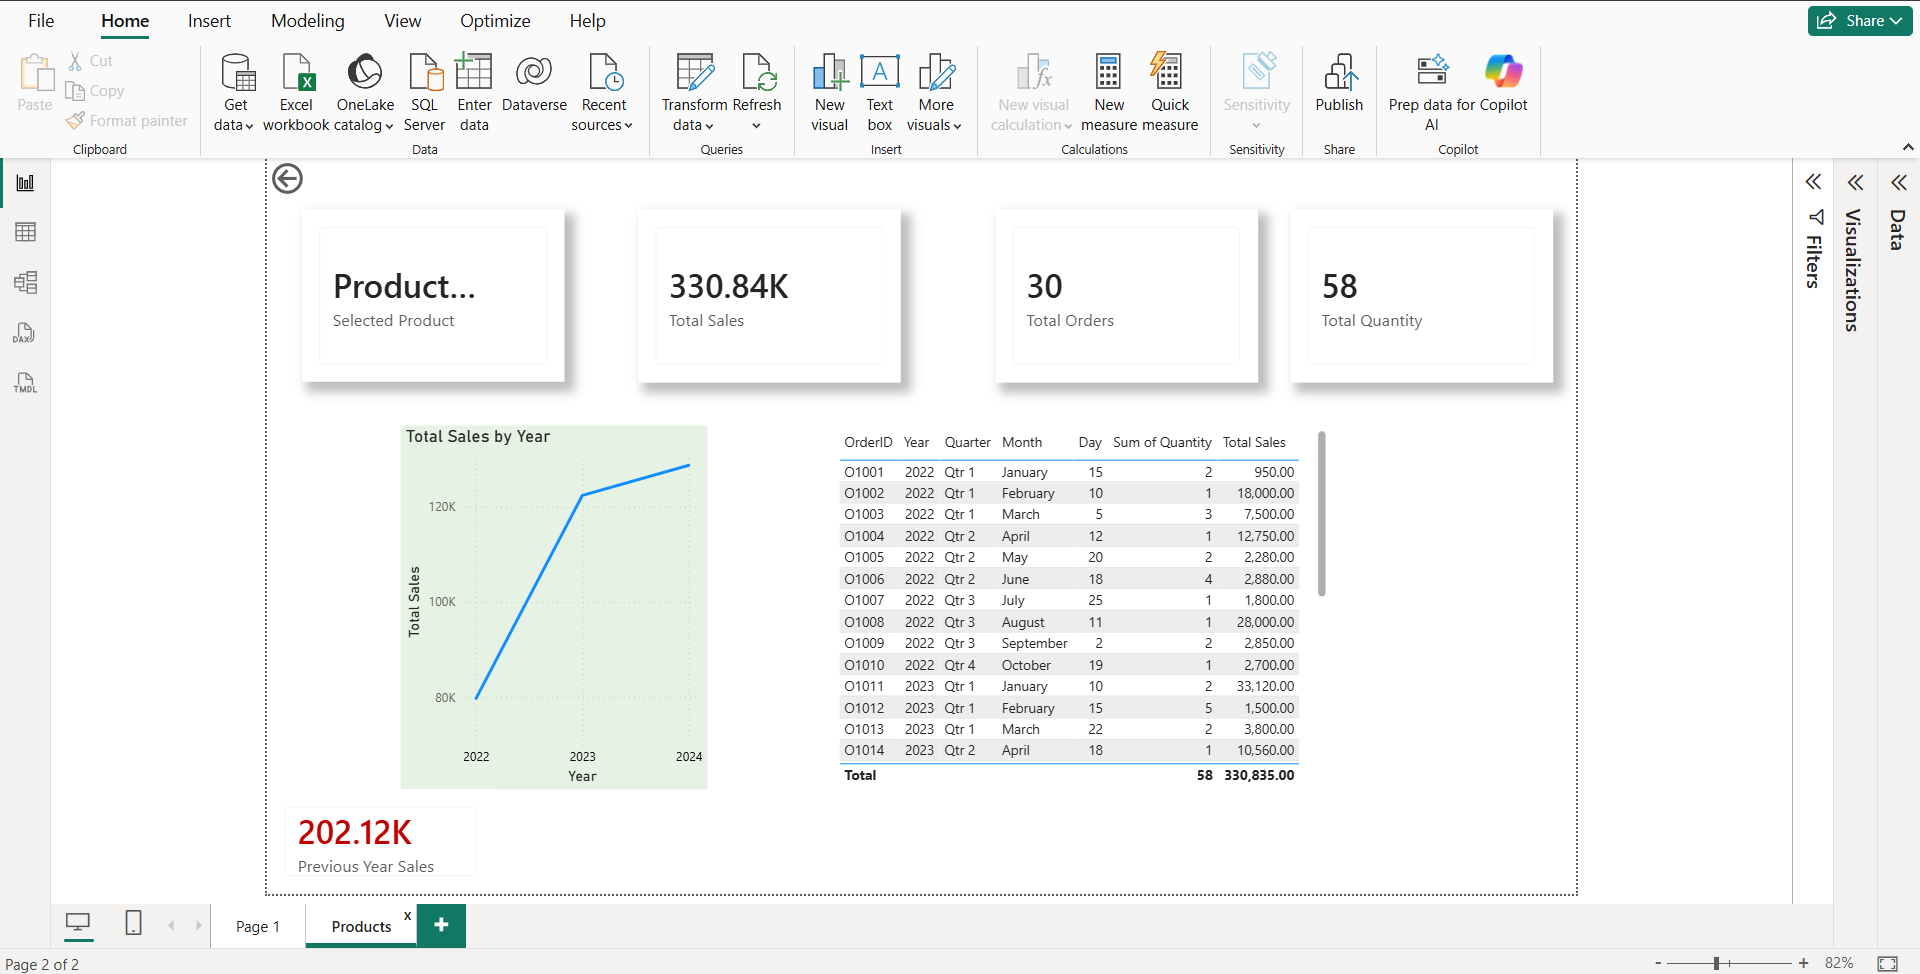

What the dashboard file says about the page in this screenshot:
{"tool":"powerbi","page":{"name":"Products","canvas":[1280,720],"ordinal":1},"visuals":[{"type":"actionButton","box":[0,0,100,40],"z":0},{"type":"cardVisual","fields":{"Data":["Orders.Total Sales"]},"box":[363.5,49.9,256.6,169.6],"z":1000},{"type":"cardVisual","fields":{"Data":["Orders.Total Orders"]},"box":[712.7,49.9,256.6,169.6],"z":2000},{"type":"lineChart","fields":{"Category":["DateTable.Date.Variation.Date Hierarchy.Year","DateTable.Date.Variation.Date Hierarchy.Quarter","DateTable.Date.Variation.Date Hierarchy.Month","DateTable.Date.Variation.Date Hierarchy.Day"],"Y":["Orders.Total Sales"]},"box":[131.2,261.2,300,356.2],"z":3000},{"type":"tableEx","fields":{"Values":["Orders.OrderID","DateTable.Date.Variation.Date Hierarchy.Year","DateTable.Date.Variation.Date Hierarchy.Quarter","DateTable.Date.Variation.Date Hierarchy.Month","DateTable.Date.Variation.Date Hierarchy.Day","Sum(Orders.Quantity)","Orders.Total Sales"]},"box":[553.8,261.2,487.5,356.2],"z":4000},{"type":"cardVisual","fields":{"Data":["DateTable.Selected Product"]},"box":[34.2,49.9,257,169],"z":4001},{"type":"cardVisual","fields":{"Data":["Orders.Total Quantity"]},"box":[1002,49.9,256.6,169.6],"z":4002},{"type":"cardVisual","fields":{"Data":["DateTable.Previous Year Sales"]},"box":[0,617.5,223.8,102.5],"z":4003}]}

Visuals, with their boxes on the page's 1280x720 design canvas (x1, y1, x2, y2). These are canvas units, not pixel positions in the 1920x974 screenshot, which may show the page scaled, cropped or inside an application window:
actionButton: 0, 0, 100, 40
cardVisual - Orders.Total Sales: 364, 50, 620, 220
cardVisual - Orders.Total Orders: 713, 50, 969, 220
lineChart - DateTable.Date.Variation.Date Hierarchy.Year x DateTable.Date.Variation.Date Hierarchy.Quarter: 131, 261, 431, 617
tableEx - Orders.OrderID x DateTable.Date.Variation.Date Hierarchy.Year: 554, 261, 1041, 617
cardVisual - DateTable.Selected Product: 34, 50, 291, 219
cardVisual - Orders.Total Quantity: 1002, 50, 1259, 220
cardVisual - DateTable.Previous Year Sales: 0, 618, 224, 720
